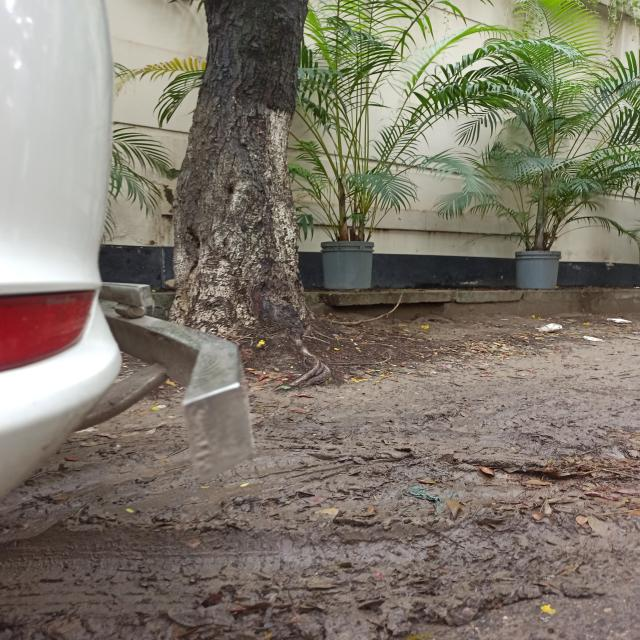artificial_container: (320, 240, 374, 290), (514, 250, 562, 289)
